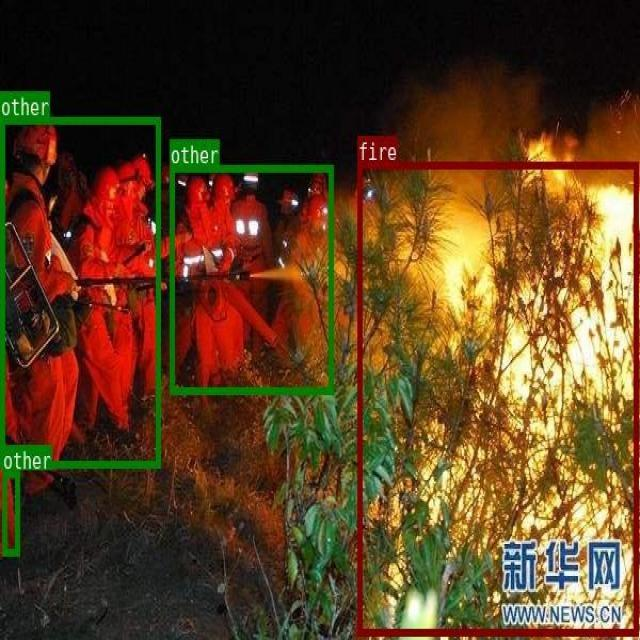fire: (357, 161, 638, 635)
